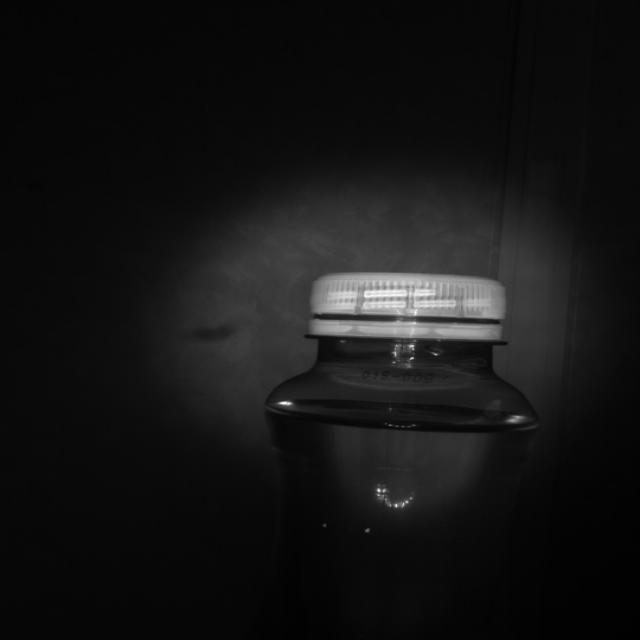Not Good: (310, 274, 508, 342)
